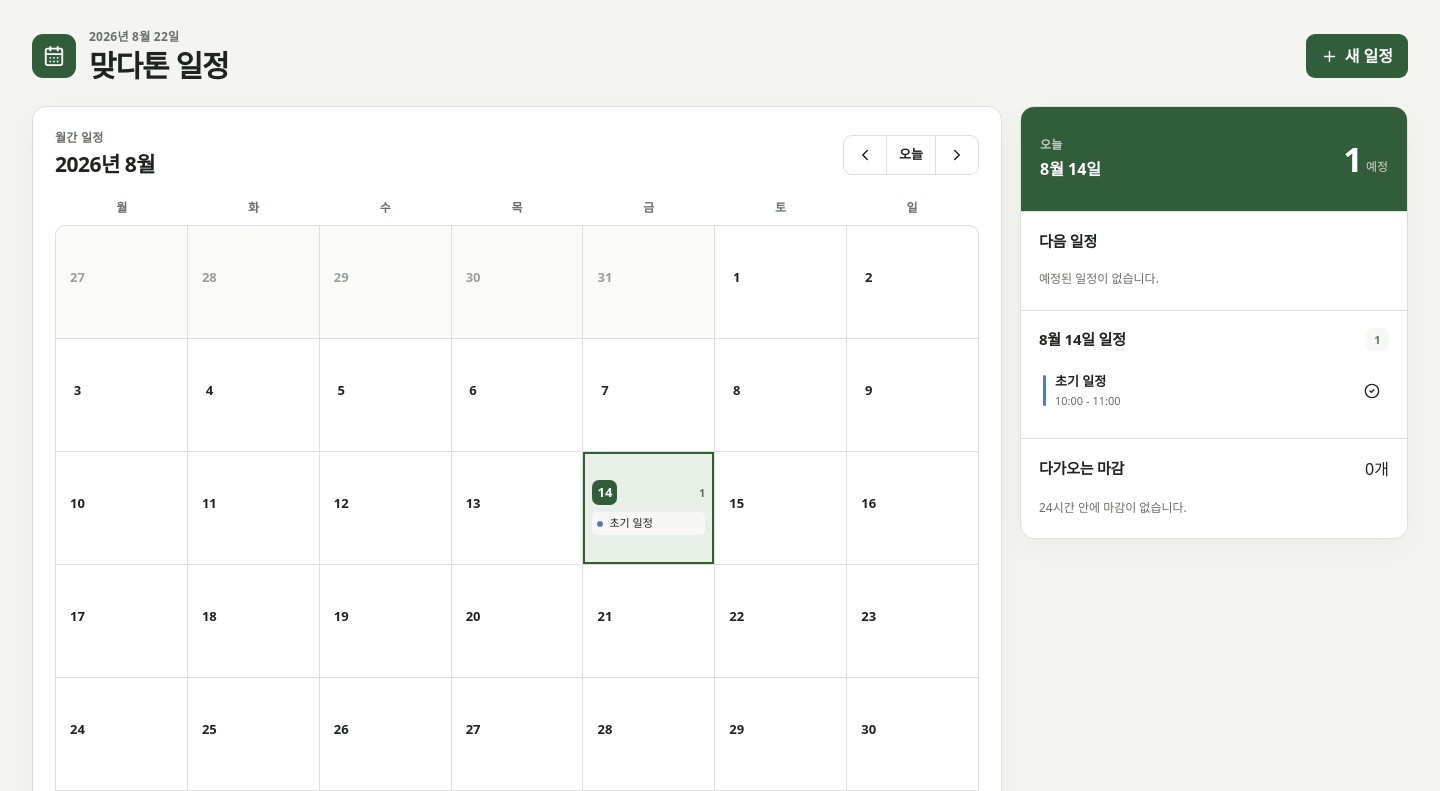
App › 잘못된 시간 범위를 API로 보내지 않는다
This screenshot has width=1440, height=791.
Click the button "새 일정" at (1357,56), box [1306,34,1408,78]
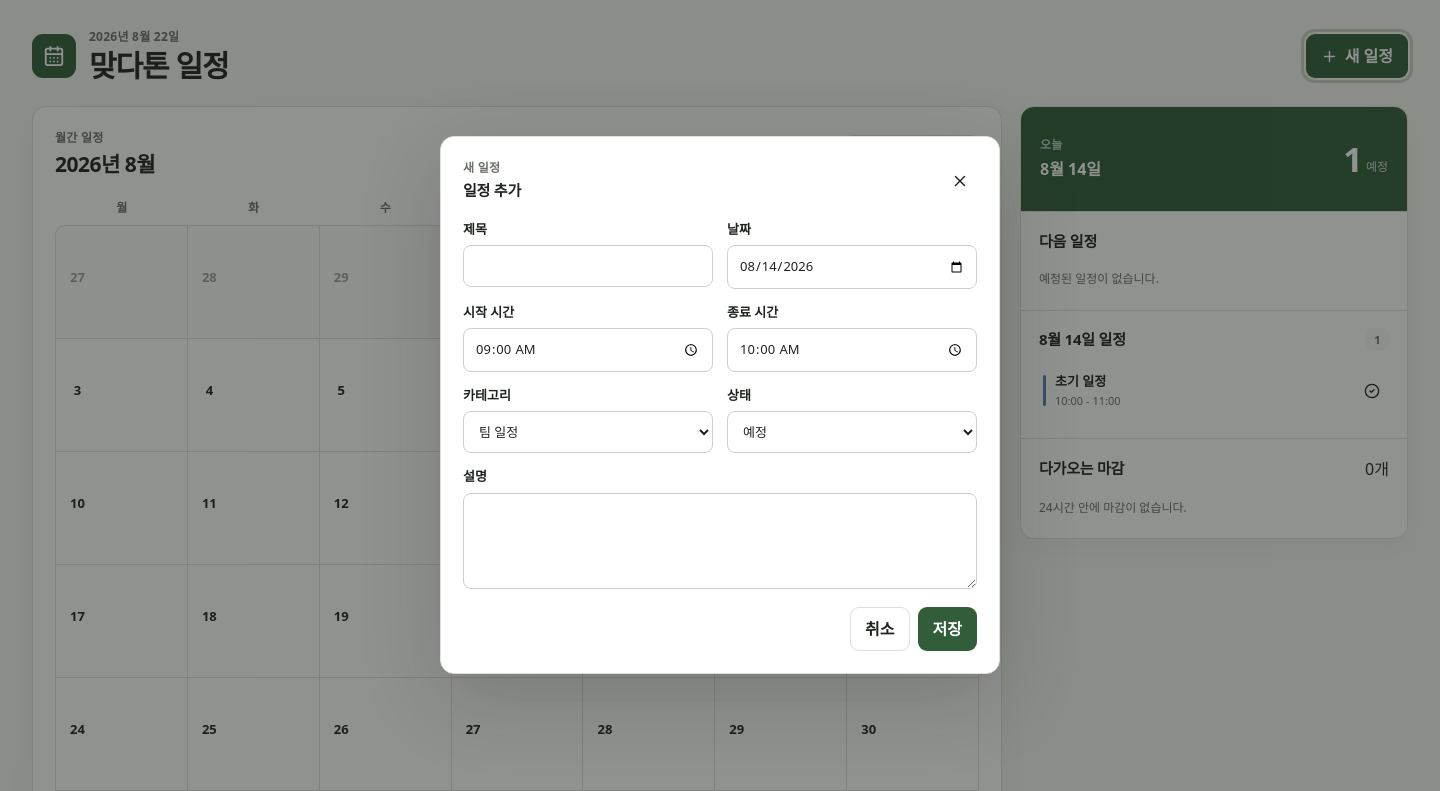
Type "잘못된 일정" into the field labelled "제목" at (588,266), box [463,245,713,287]
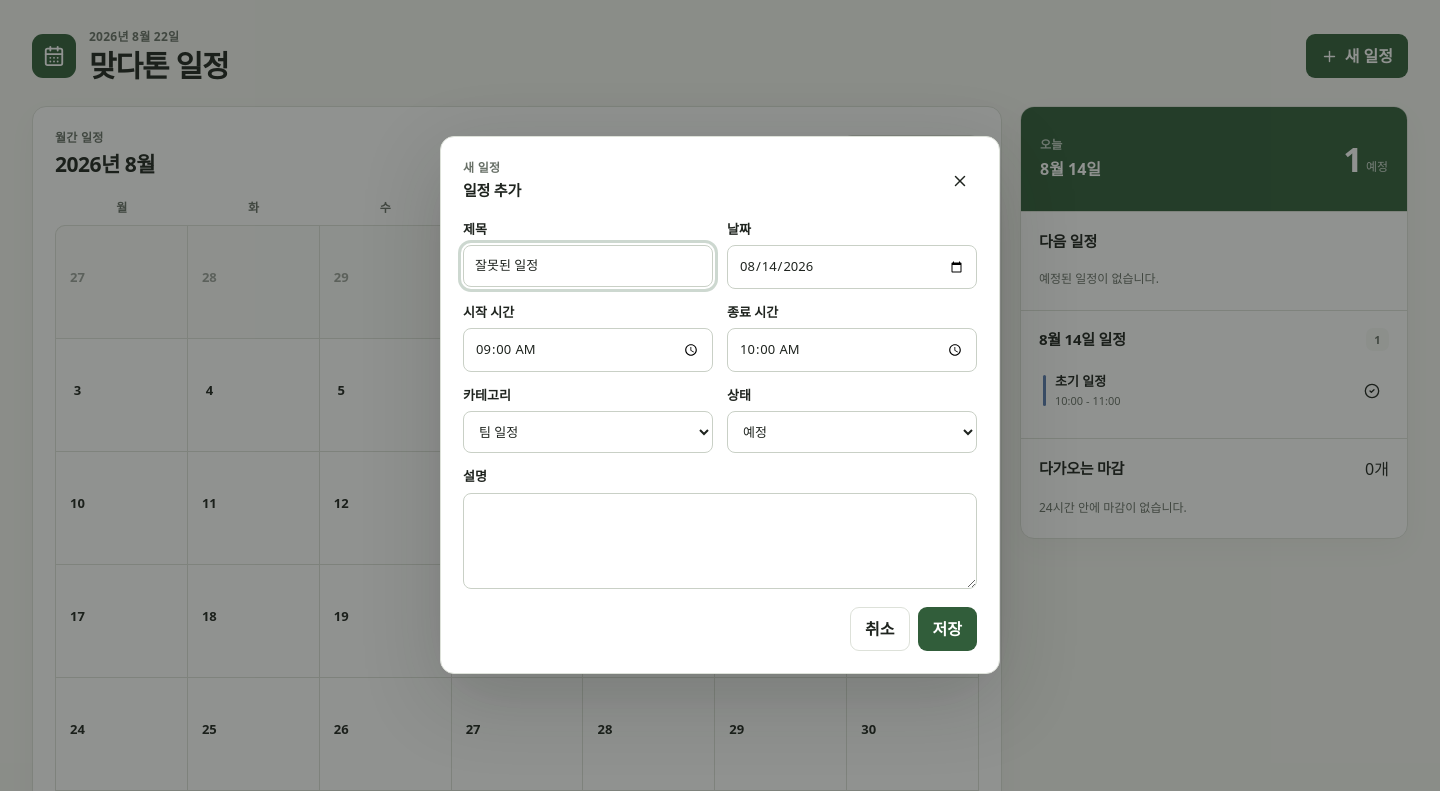
Replace the text in the time field labelled "종료 시간" with "08:00" at (852,350), box [727,328,977,372]
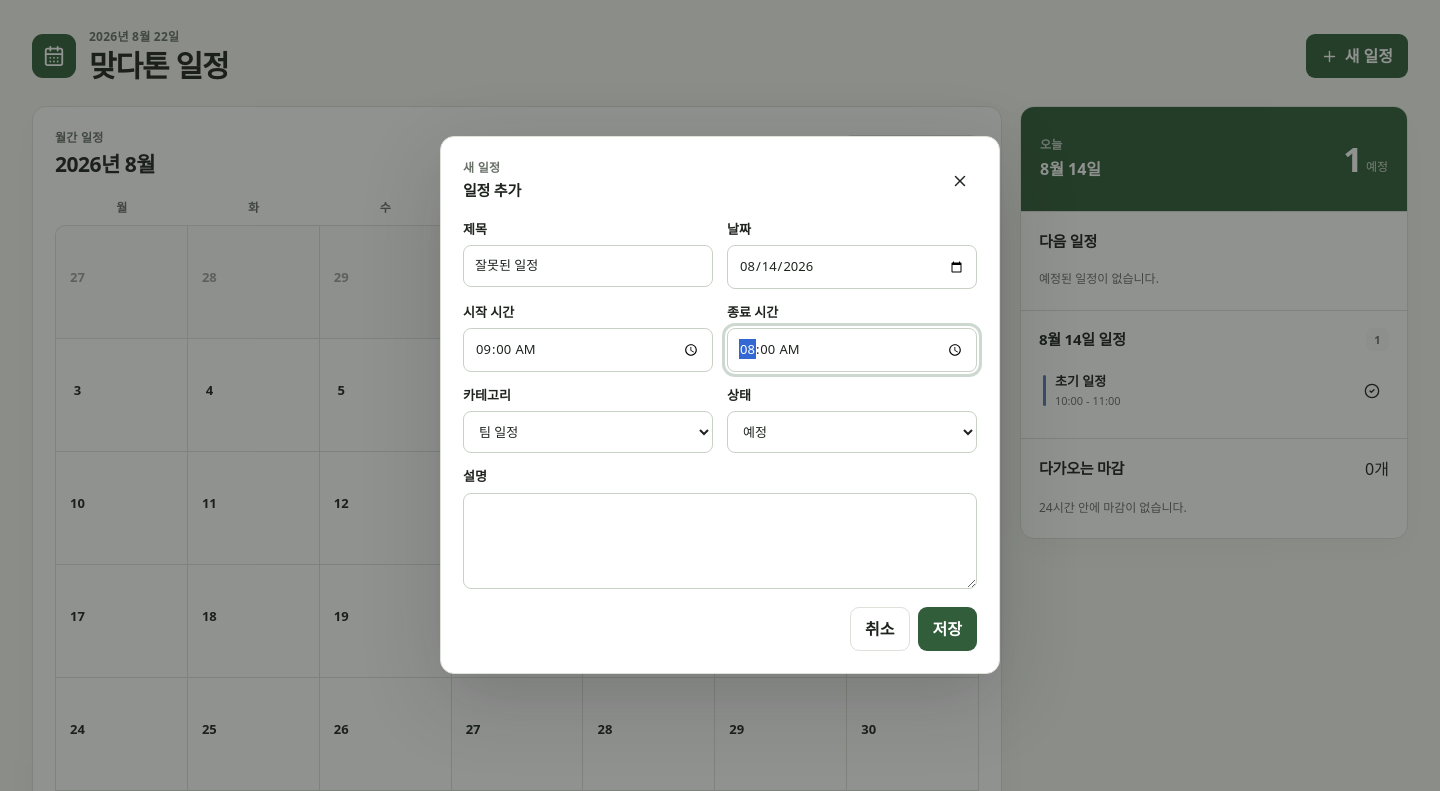
Click the button "저장" at (947,629), box [918,607,977,651]
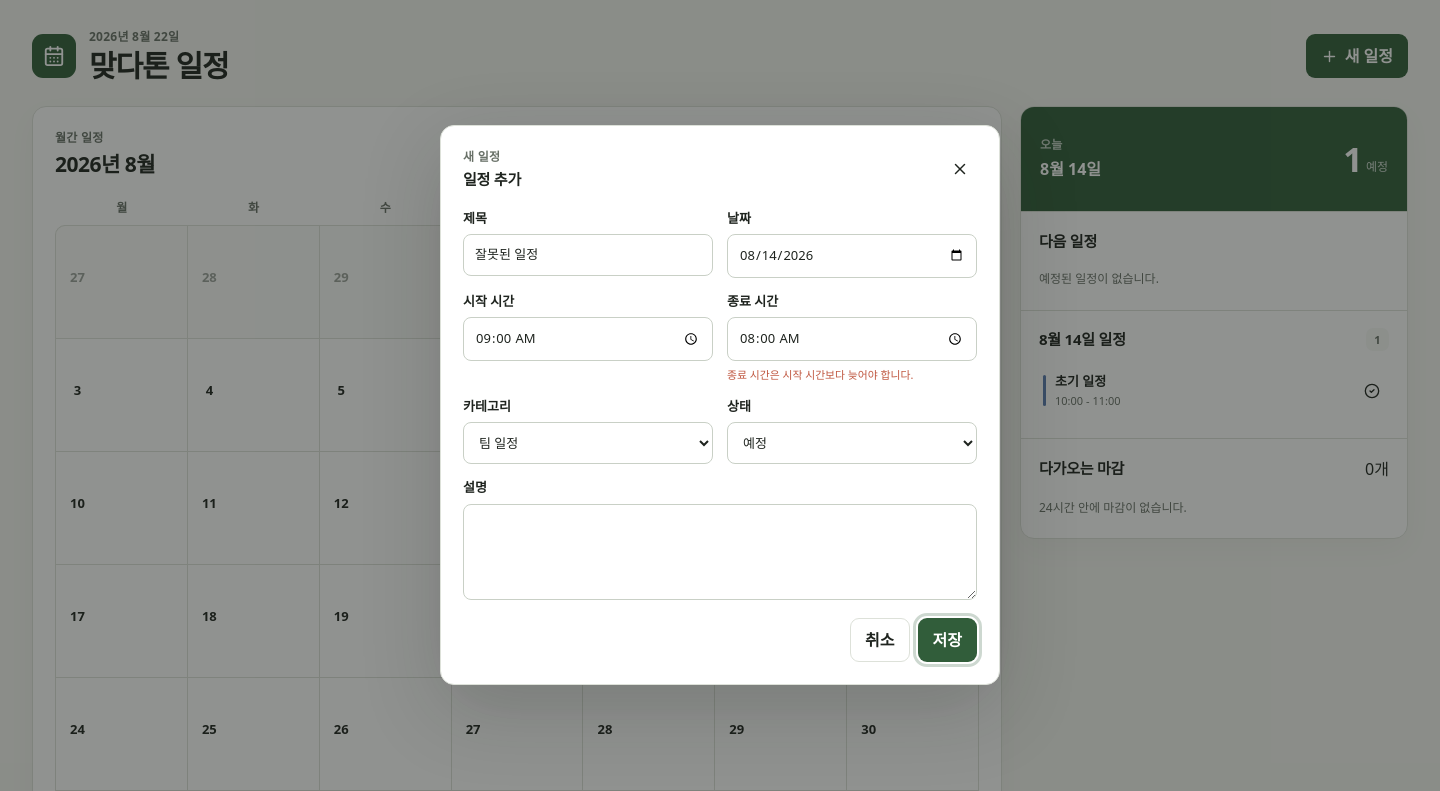
Now the text "종료 시간은 시작 시간보다 늦어야 합니다." is shown, box [727,367,913,382]
